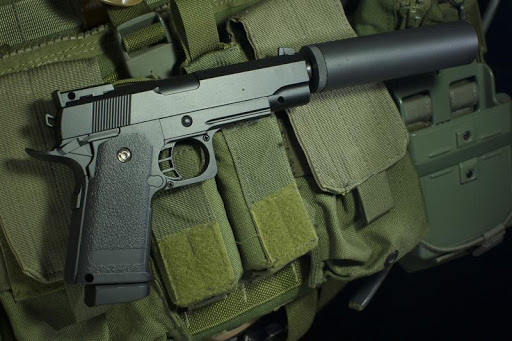gun: (24, 15, 485, 316)
